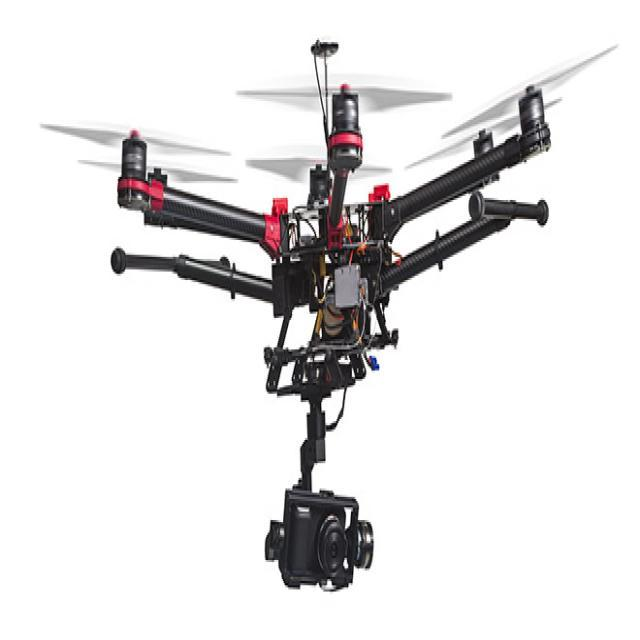drone: (55, 42, 633, 305)
